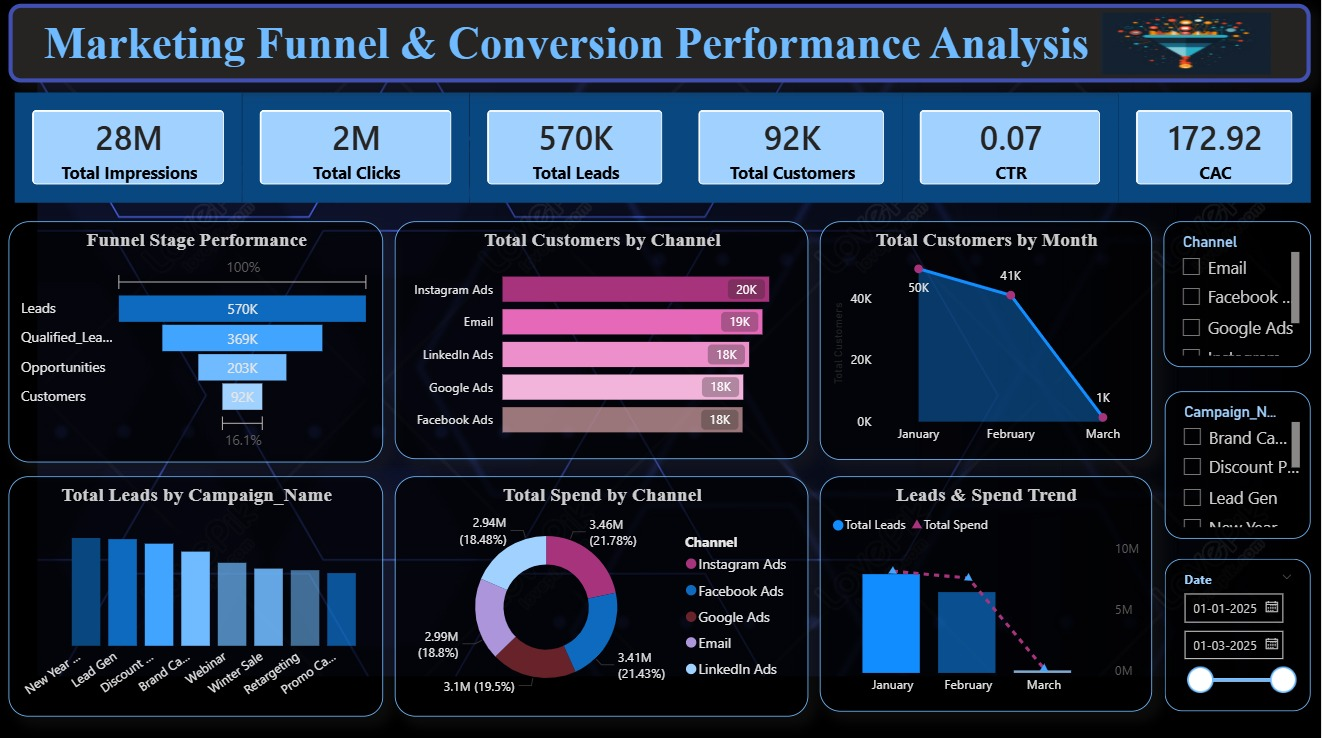

The dashboard page shown, as its layout file describes it:
{"tool":"powerbi","page":{"name":"Page 1","canvas":[1280,720],"ordinal":0},"visuals":[{"type":"barChart","fields":{"Category":["Marketing_Funnel_Data.Channel"],"Y":["Marketing_Funnel_Data.Total Customers"]},"box":[384.9,218.4,399.3,229.2],"z":0},{"type":"columnChart","fields":{"Y":["Marketing_Funnel_Data.Total Leads"],"Category":["Marketing_Funnel_Data.Campaign_Name"]},"box":[12.1,464.5,361.9,231.6],"z":1000},{"type":"lineChart","fields":{"Y":["Marketing_Funnel_Data.Total Customers"],"Category":["Marketing_Funnel_Data.Date.Variation.Date Hierarchy.Month"]},"box":[795,218.4,320.9,230.4],"z":2000},{"type":"cardVisual","fields":{"Data":["Marketing_Funnel_Data.Total Customers"]},"box":[661.1,94.1,213.5,106.2],"z":3000},{"type":"cardVisual","fields":{"Data":["Marketing_Funnel_Data.CTR"]},"box":[874.7,94.1,208.7,106.2],"z":4000},{"type":"cardVisual","fields":{"Data":["Marketing_Funnel_Data.Total Leads"]},"box":[457.2,94.1,203.9,106.2],"z":5000},{"type":"cardVisual","fields":{"Data":["Marketing_Funnel_Data.Total Clicks"]},"box":[237.7,94.1,219.6,106.2],"z":6000},{"type":"funnel","title":"Funnel Stage Performance","fields":{"Y":["Sum(Marketing_Funnel_Data.Leads)","Sum(Marketing_Funnel_Data.Qualified_Leads)","Sum(Marketing_Funnel_Data.Opportunities)","Sum(Marketing_Funnel_Data.Customers)"]},"box":[12.1,218.4,361.9,232.8],"z":7000},{"type":"donutChart","fields":{"Category":["Marketing_Funnel_Data.Channel"],"Y":["Marketing_Funnel_Data.Total Spend"]},"box":[384.9,464.5,399.3,231.6],"z":8000},{"type":"lineClusteredColumnComboChart","title":"Leads & Spend Trend","fields":{"Y":["Marketing_Funnel_Data.Total Leads"],"Y2":["Marketing_Funnel_Data.Total Spend"],"Category":["Marketing_Funnel_Data.Date.Variation.Date Hierarchy.Month"]},"box":[795,464.5,320.9,226.8],"z":9000},{"type":"slicer","fields":{"Values":["Marketing_Funnel_Data.Channel"]},"box":[1126.8,218.4,142.4,141.2],"z":10000},{"type":"slicer","fields":{"Values":["Marketing_Funnel_Data.Campaign_Name"]},"box":[1128,382.4,141.2,142.4],"z":11000},{"type":"slicer","fields":{"Values":["Marketing_Funnel_Data.Date"]},"box":[1128,544.1,141.2,147.2],"z":12000},{"type":"textbox","box":[12.1,8.4,1257.1,76],"z":13000},{"type":"cardVisual","fields":{"Data":["Marketing_Funnel_Data.CAC"]},"box":[1083.4,94.1,185.8,106.2],"z":14000},{"type":"cardVisual","fields":{"Data":["Marketing_Funnel_Data.Total Impressions"]},"box":[18.1,94.1,219.6,106.2],"z":15000},{"type":"image","box":[1066.5,16.9,164.1,60.3],"z":16000}]}

Visuals, with their boxes in screenshot pixels (x1, y1, x2, y2), scaled from the page's 1280x720 canvas onto the 1322x738 screenshot:
barChart - Marketing_Funnel_Data.Channel x Marketing_Funnel_Data.Total Customers: [398, 224, 810, 459]
columnChart - Marketing_Funnel_Data.Total Leads x Marketing_Funnel_Data.Campaign_Name: [12, 476, 386, 714]
lineChart - Marketing_Funnel_Data.Total Customers x Marketing_Funnel_Data.Date.Variation.Date Hierarchy.Month: [821, 224, 1153, 460]
cardVisual - Marketing_Funnel_Data.Total Customers: [683, 96, 903, 205]
cardVisual - Marketing_Funnel_Data.CTR: [903, 96, 1119, 205]
cardVisual - Marketing_Funnel_Data.Total Leads: [472, 96, 683, 205]
cardVisual - Marketing_Funnel_Data.Total Clicks: [245, 96, 472, 205]
"Funnel Stage Performance" funnel: [12, 224, 386, 462]
donutChart - Marketing_Funnel_Data.Channel x Marketing_Funnel_Data.Total Spend: [398, 476, 810, 714]
"Leads & Spend Trend" lineClusteredColumnComboChart: [821, 476, 1153, 709]
slicer - Marketing_Funnel_Data.Channel: [1164, 224, 1311, 369]
slicer - Marketing_Funnel_Data.Campaign_Name: [1165, 392, 1311, 538]
slicer - Marketing_Funnel_Data.Date: [1165, 558, 1311, 709]
textbox: [12, 9, 1311, 87]
cardVisual - Marketing_Funnel_Data.CAC: [1119, 96, 1311, 205]
cardVisual - Marketing_Funnel_Data.Total Impressions: [19, 96, 245, 205]
image: [1101, 17, 1271, 79]
